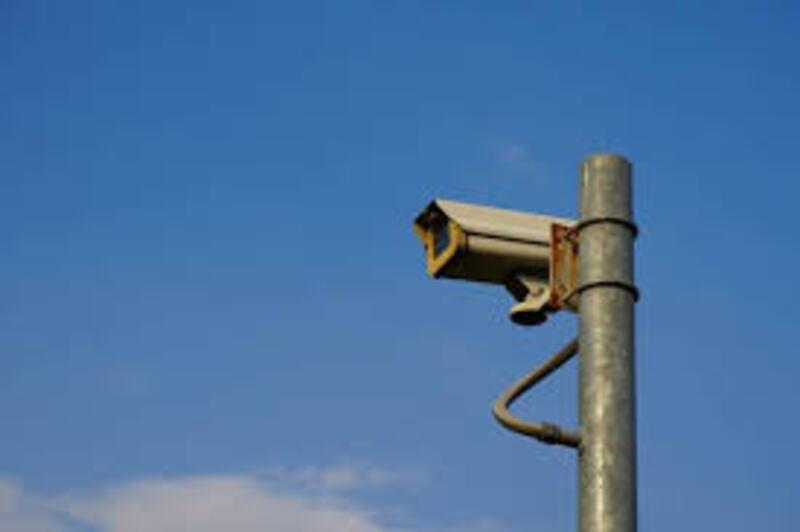box: (410, 204, 589, 299)
